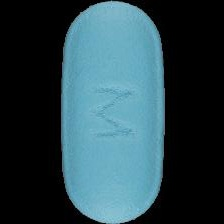61786-861: (0, 0, 224, 224)
